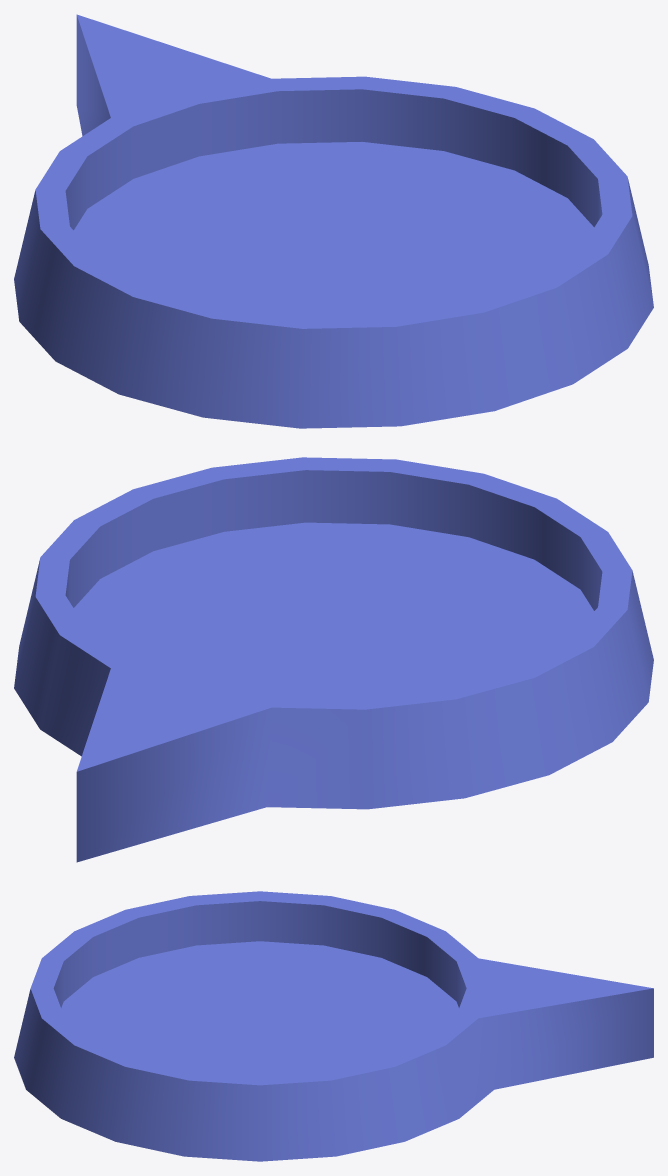
File: PlacementMesh.fbx
The picture shows the model from 3 angles, top to bottom: view 1: azimuth 30°, elevation 25°; view 2: azimuth 150°, elevation 25°; view 3: azimuth 270°, elevation 25°; orthographic projection. The views are drawn at different scales.
Parts seen in each view (by area): view 1: PlacementUnit; view 2: PlacementUnit; view 3: PlacementUnit.
Boxes of the visible parts, bbox=[...] form: PlacementUnit: bbox=[14, 14, 653, 428]; PlacementUnit: bbox=[14, 457, 653, 862]; PlacementUnit: bbox=[14, 891, 653, 1161].
Bounding box in the file's own units: 100 × 15.54 × 130.
